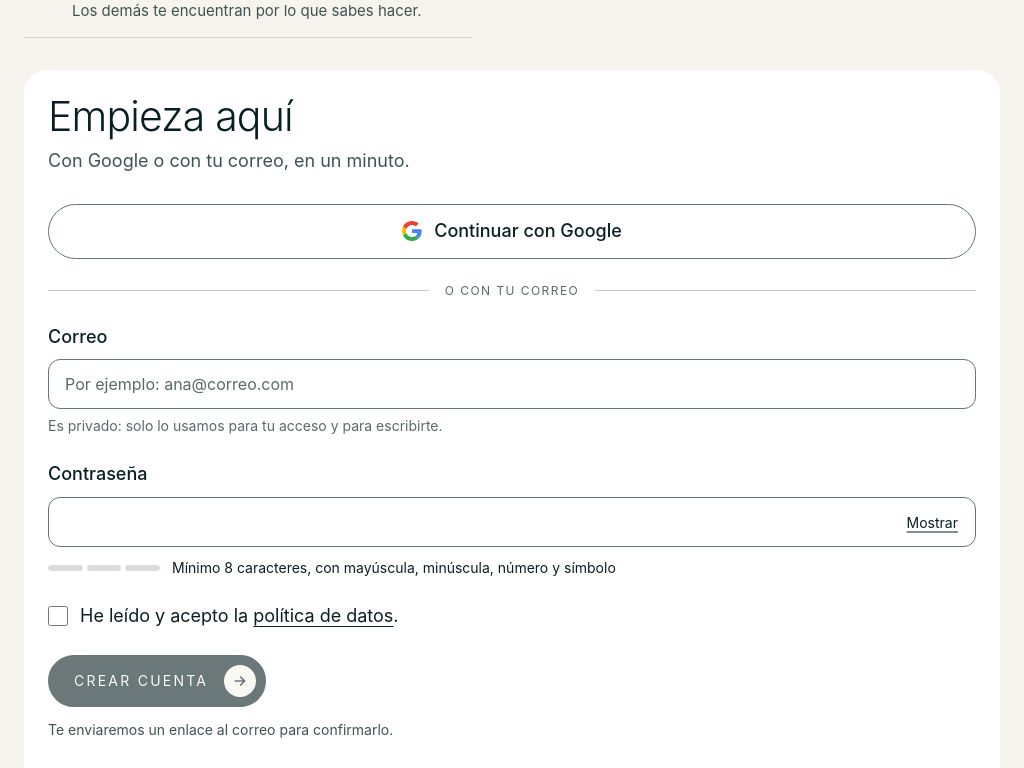
Test: RegistroView › pide una contraseña de al menos 8 caracteres
(page scrolled)
In the field labelled "Correo": (512, 384) [48, 359, 976, 409], type "Ana@Correo.com"
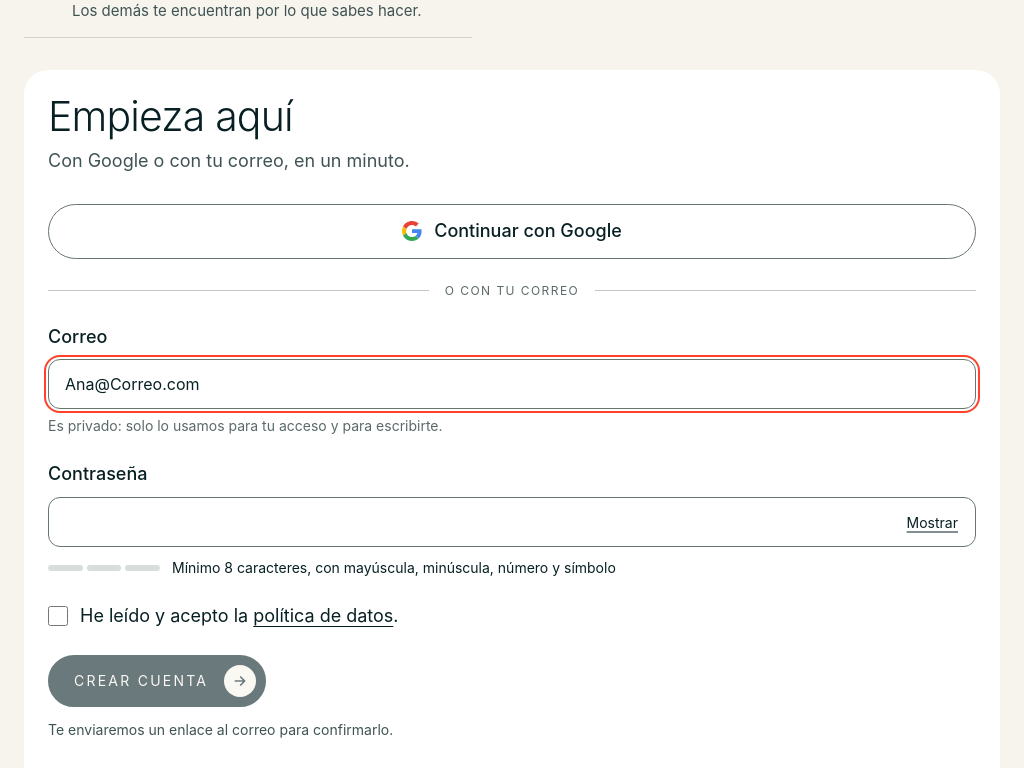
In the password field labelled "Contraseña": (512, 522) [48, 497, 976, 547], type "corta"
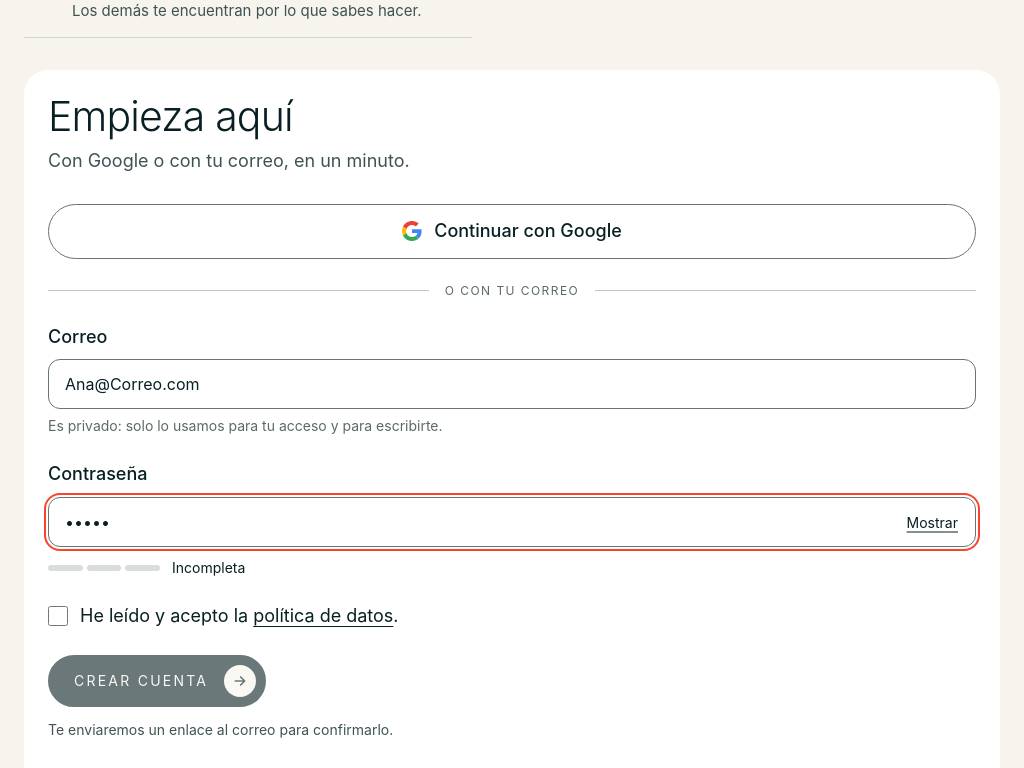
Click the checkbox labelled "He leído y acepto la política de datos .": (58, 616) [48, 606, 68, 626]
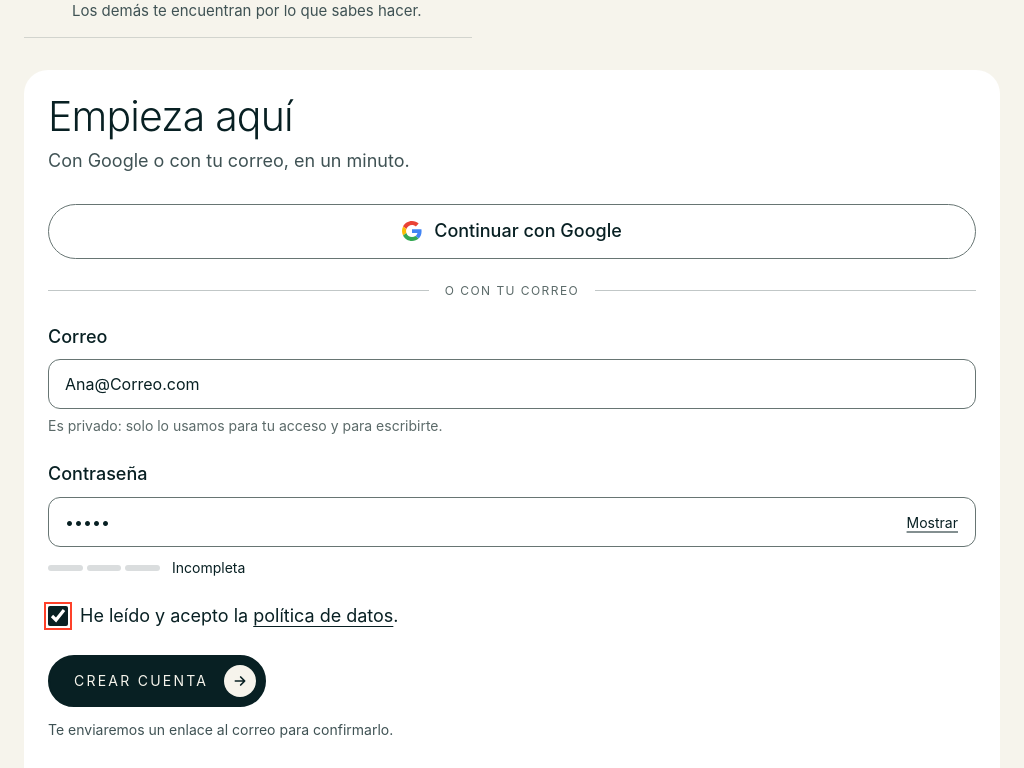
Click the button "Crear cuenta": (157, 681) [48, 655, 266, 707]
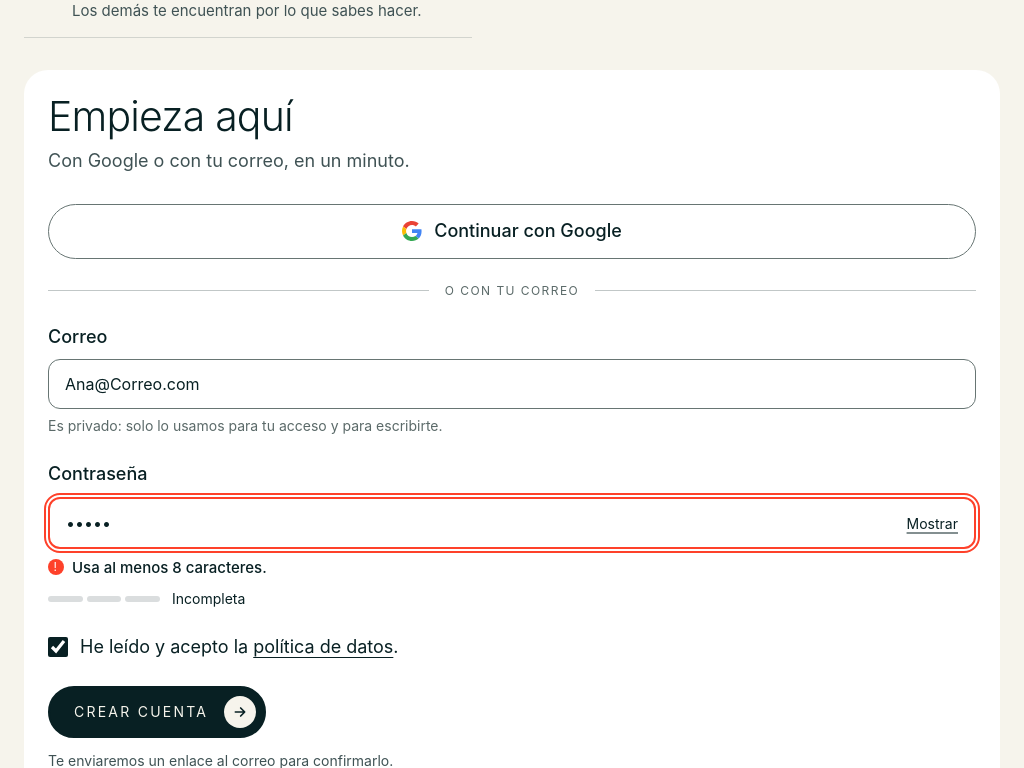
Result: the text "Usa al menos 8 caracteres." is shown at [72, 557, 267, 578]
